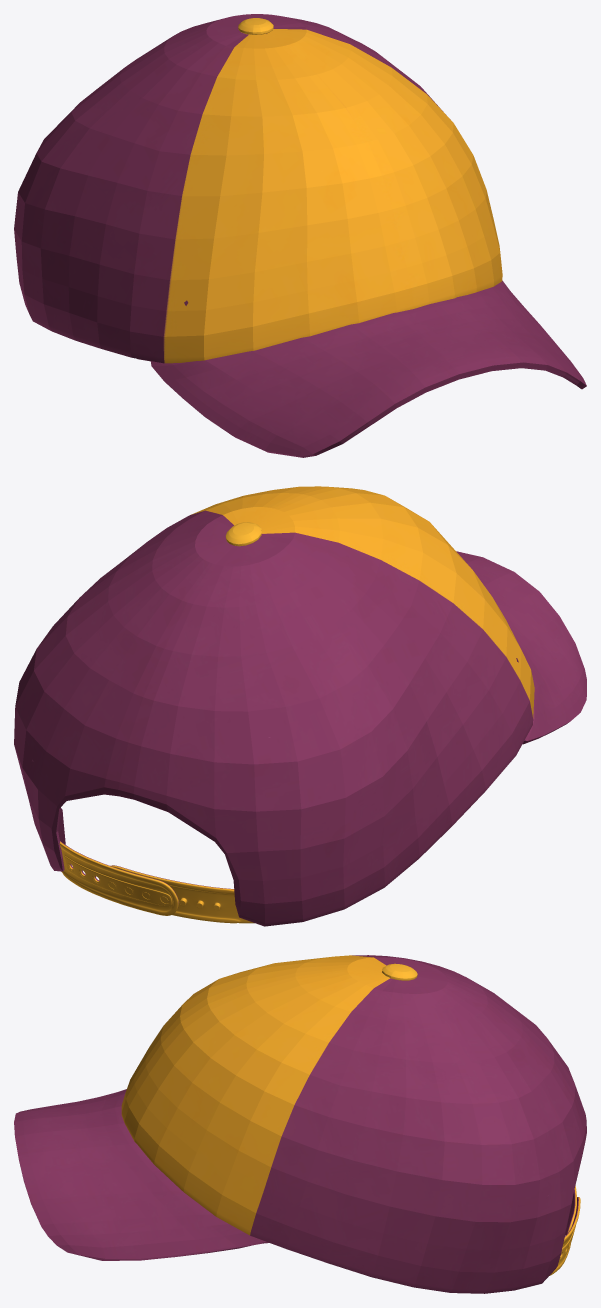
The model's file is Baseball_Hat_Boy.fbx.
3 views of the same model, one above another, from view 1: azimuth 30°, elevation 25°; view 2: azimuth 150°, elevation 25°; view 3: azimuth 270°, elevation 25° (orthographic). The views are drawn at different scales.
Visible parts, largest first — view 1: Baseball_cap; view 2: Baseball_cap; view 3: Baseball_cap.
Part boxes in pixels (<box>): Baseball_cap: <box>14,14,586,457</box>; Baseball_cap: <box>14,486,586,926</box>; Baseball_cap: <box>14,955,586,1293</box>.
Bounding box in the file's own units: 47.47 × 36.69 × 69.81.
